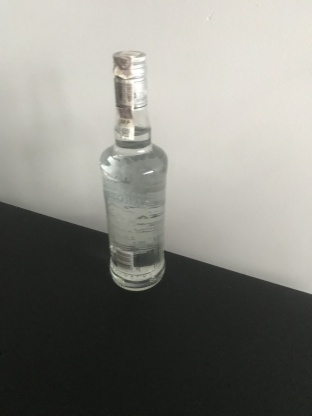nakretka: (110, 48, 149, 112)
